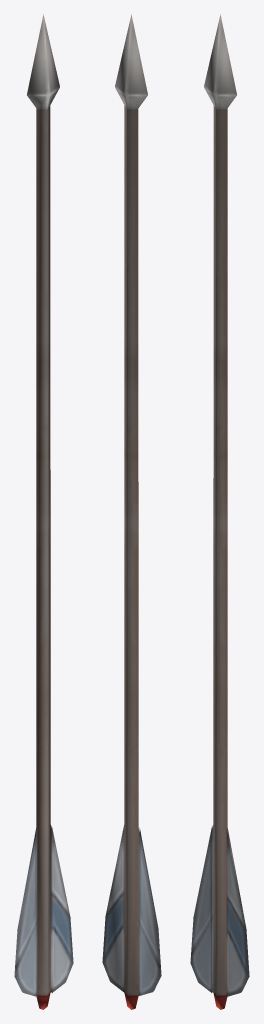
File: DuanGongJian_2_1.fbx
3 renders of one model, left to right at view 1: azimuth 30°, elevation 25°; view 2: azimuth 150°, elevation 25°; view 3: azimuth 330°, elevation 25°, orthographic.
Parts seen in each view (by area): view 1: DuanGongJian_2_1; view 2: DuanGongJian_2_1; view 3: DuanGongJian_2_1.
Boxes of the visible parts, bbox=[...] form: DuanGongJian_2_1: bbox=[14, 14, 73, 1009]; DuanGongJian_2_1: bbox=[102, 14, 161, 1009]; DuanGongJian_2_1: bbox=[190, 14, 249, 1009].
Size of the model in its own units: 4.92 by 80.63 by 1.72.
1 material, 1 textured.
